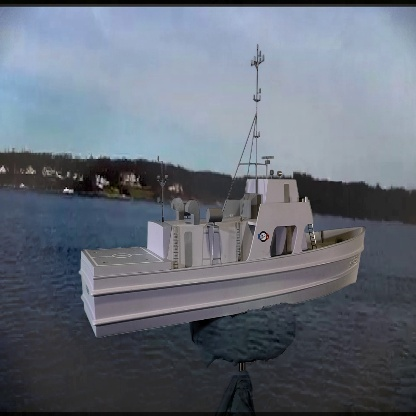YP689: (78, 44, 366, 341)
